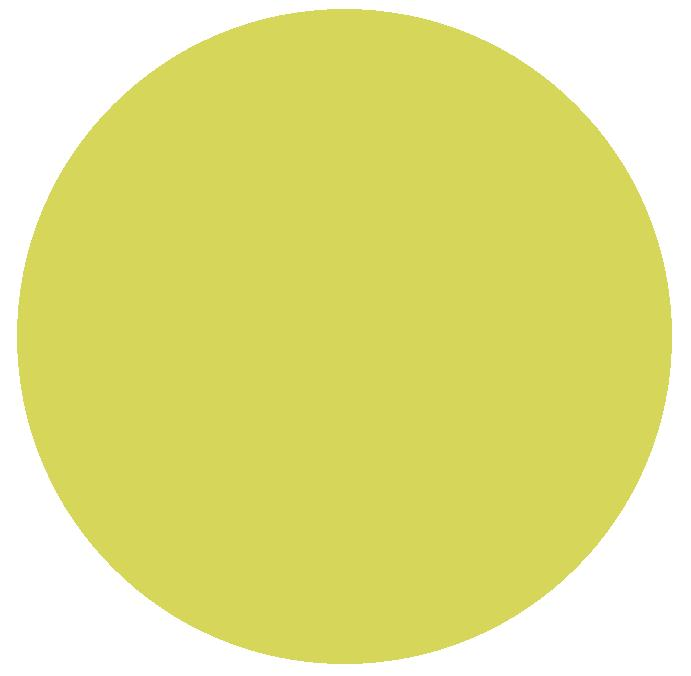yellow_circle: (17, 0, 675, 663)
